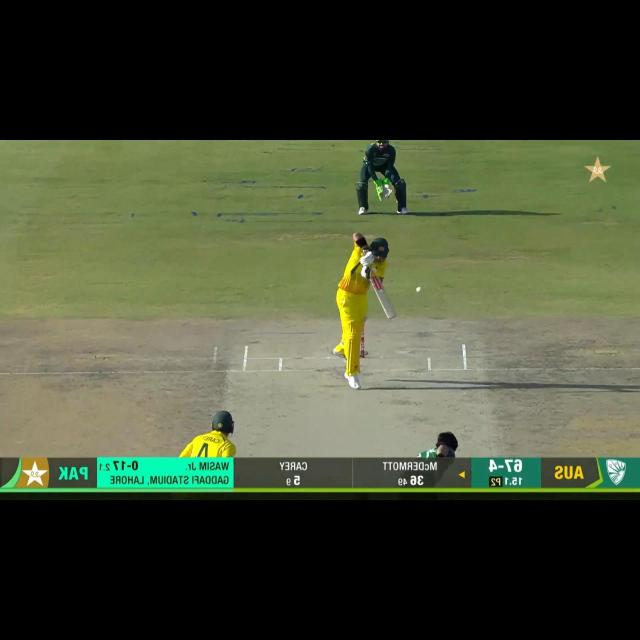bat: (369, 275, 397, 320)
toe: (382, 306, 397, 319)
